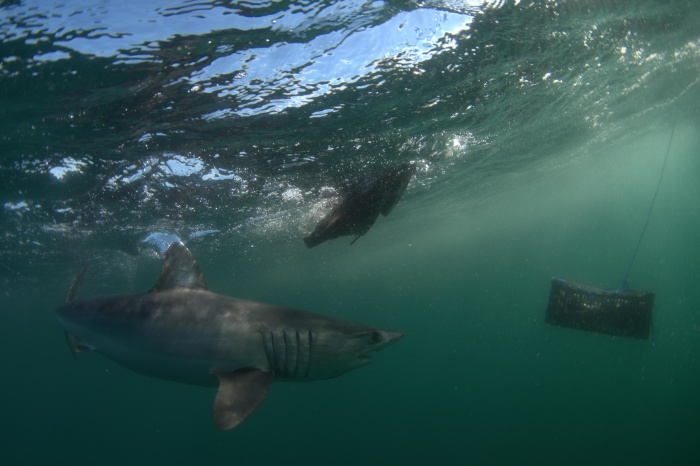Mako: (39, 235, 414, 435)
